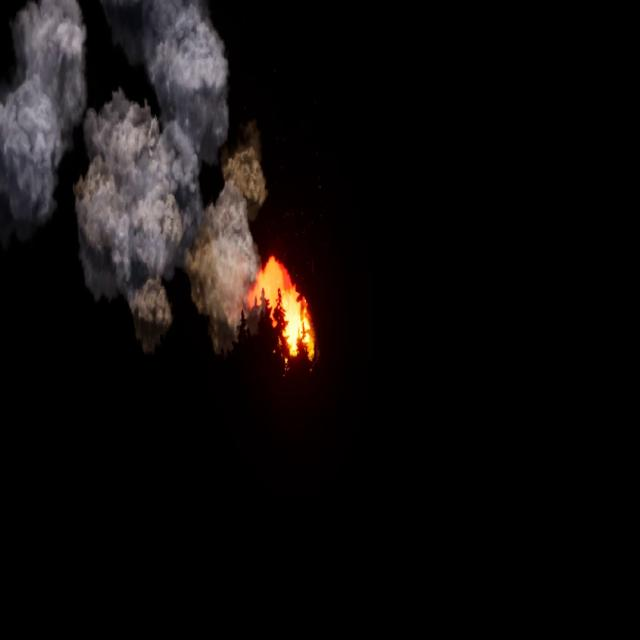fire: (247, 257, 321, 368)
smoke: (0, 0, 265, 340)
